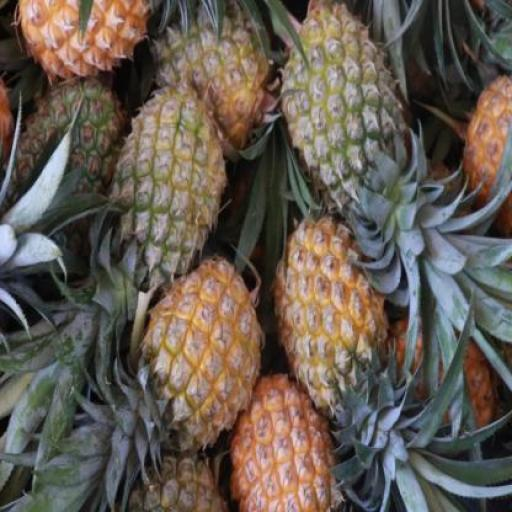------------------------------: (280, 2, 398, 216), (108, 91, 217, 286), (149, 0, 269, 158)
Pineapple - v8 v1: (274, 214, 384, 409), (144, 253, 256, 442), (230, 365, 343, 512)
